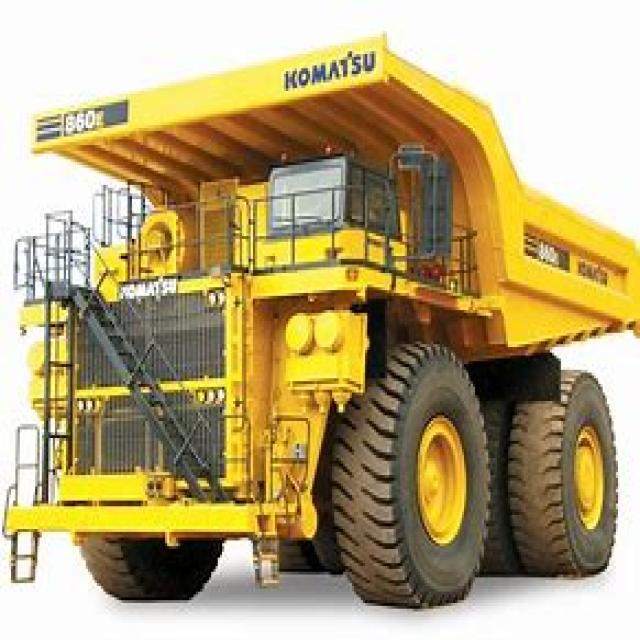dump_truck: (24, 23, 627, 603)
